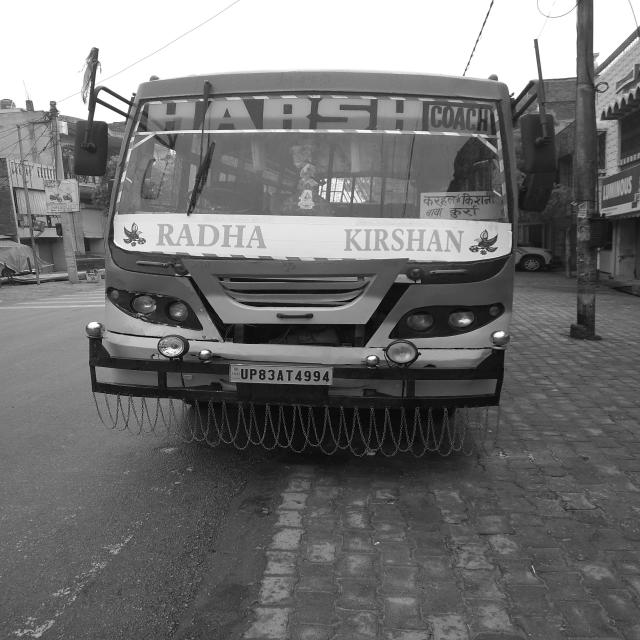Bus: (90, 71, 548, 434)
